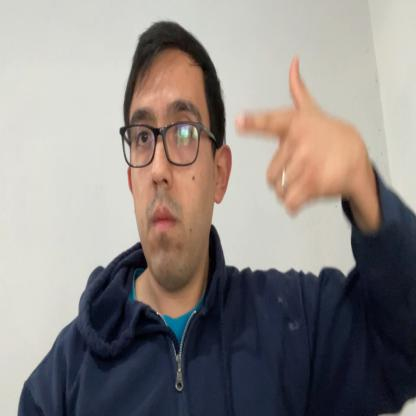G: (235, 54, 353, 218)
